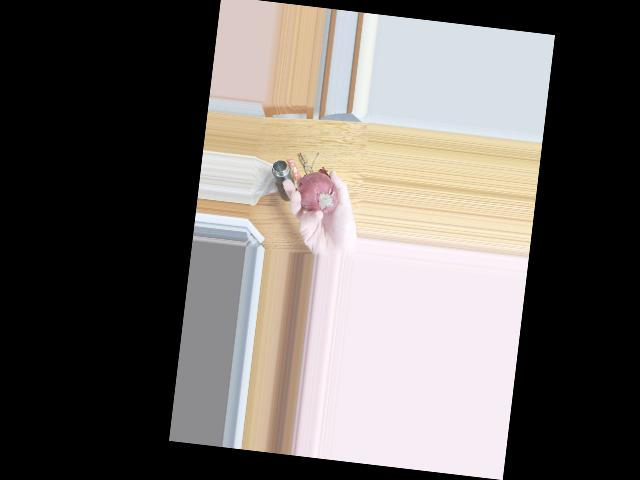onion: (294, 170, 341, 221)
